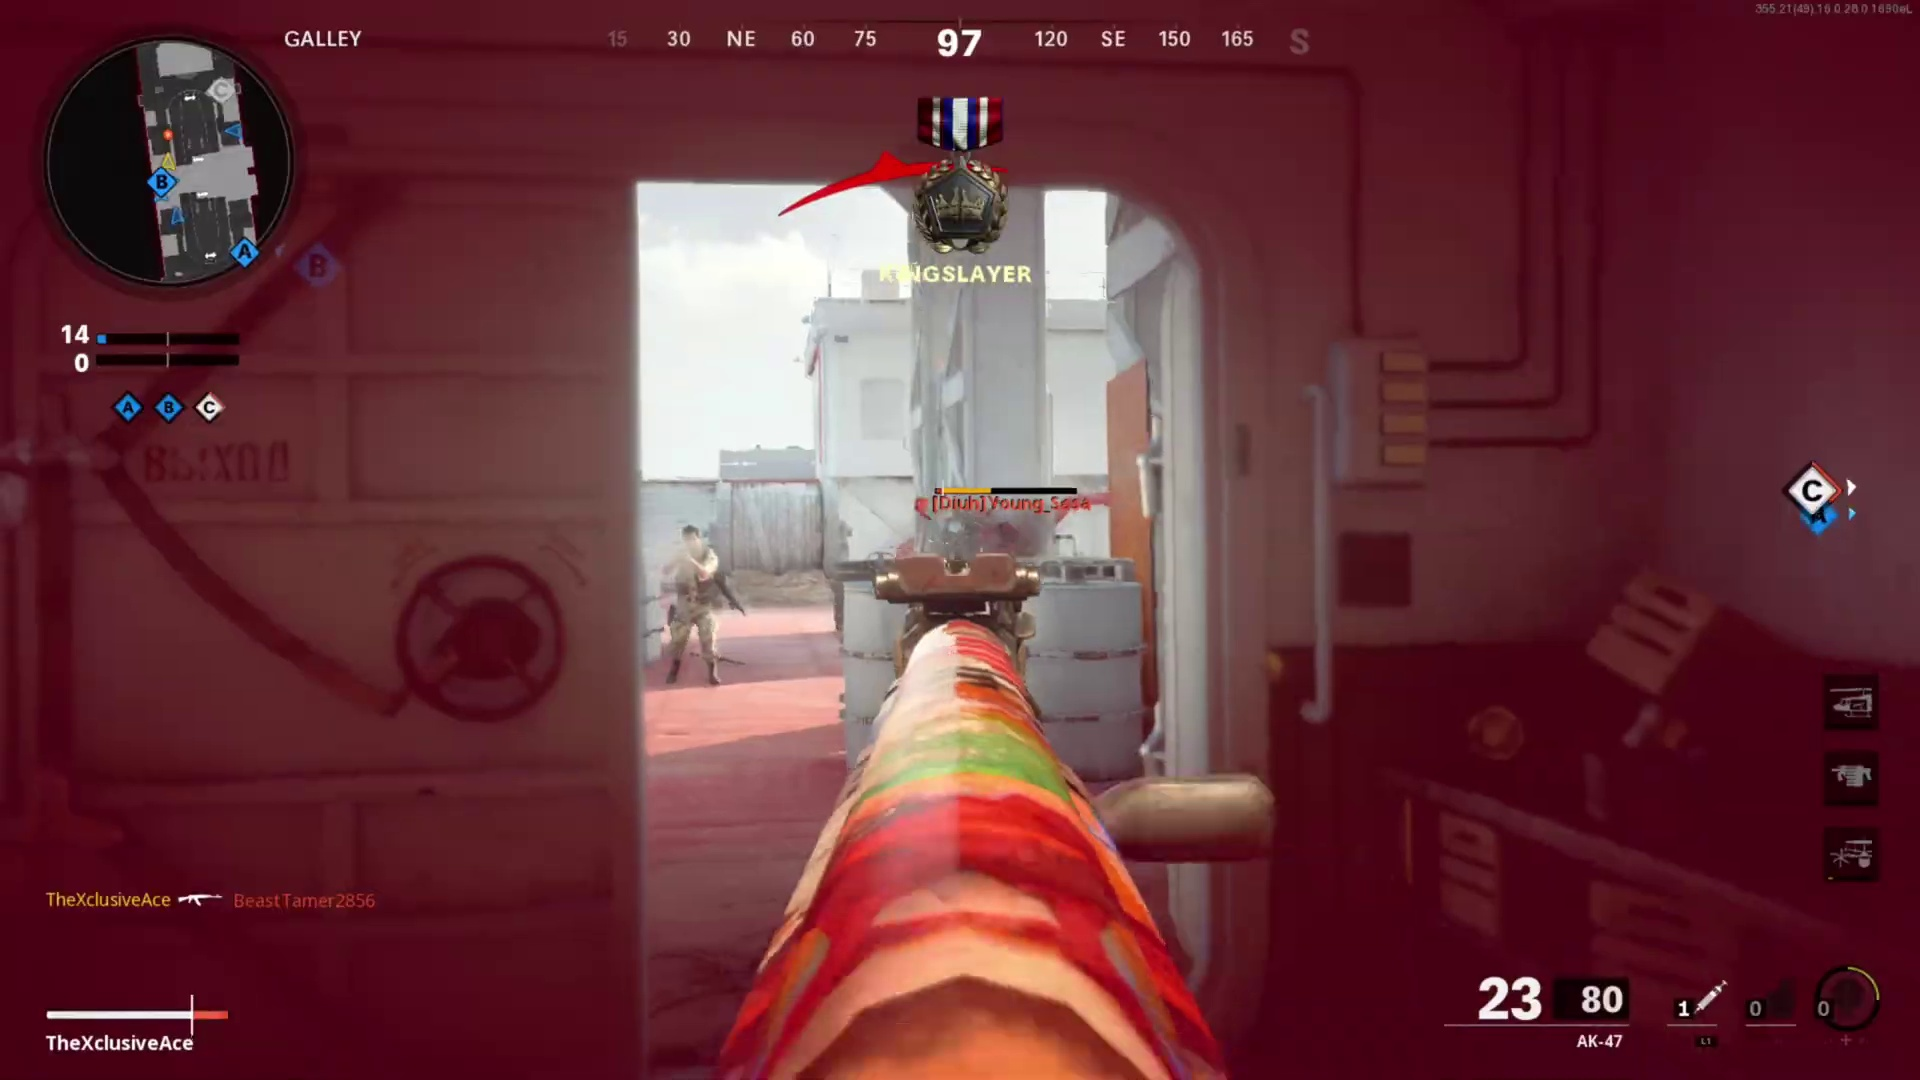head: (676, 521, 709, 561)
person: (653, 524, 744, 683)
